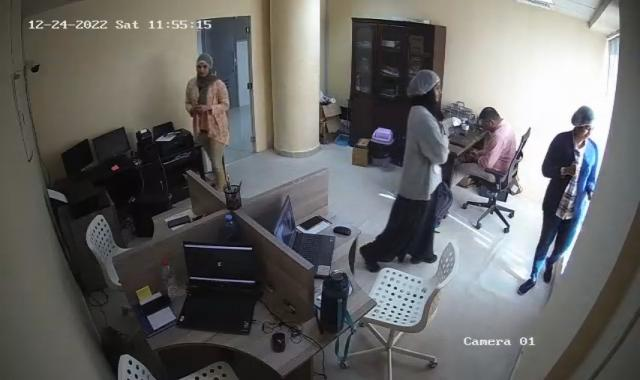hairnet: (408, 69, 443, 106), (572, 105, 597, 143), (193, 53, 213, 81)
no_hairnet: (477, 107, 502, 132)
